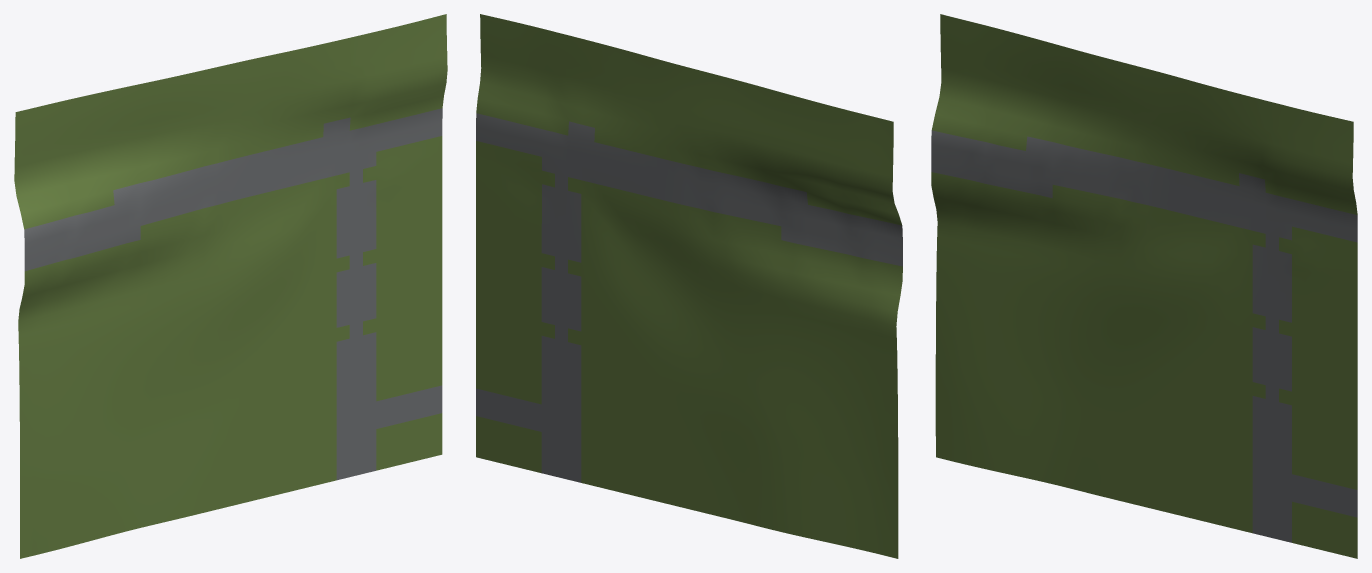
The model's file is island_terrain_18_05.obj.
3 views of the same model, side by side, from view 1: azimuth 30°, elevation 25°; view 2: azimuth 150°, elevation 25°; view 3: azimuth 330°, elevation 25° (orthographic).
Visible parts, largest first — view 1: island_terrain_18_05; view 2: island_terrain_18_05; view 3: island_terrain_18_05.
Part boxes in pixels (<box>): island_terrain_18_05: <box>14,14,447,558</box>; island_terrain_18_05: <box>476,14,902,558</box>; island_terrain_18_05: <box>931,14,1357,558</box>.
Size of the model in its own units: 256 by 256 by 10.8.
